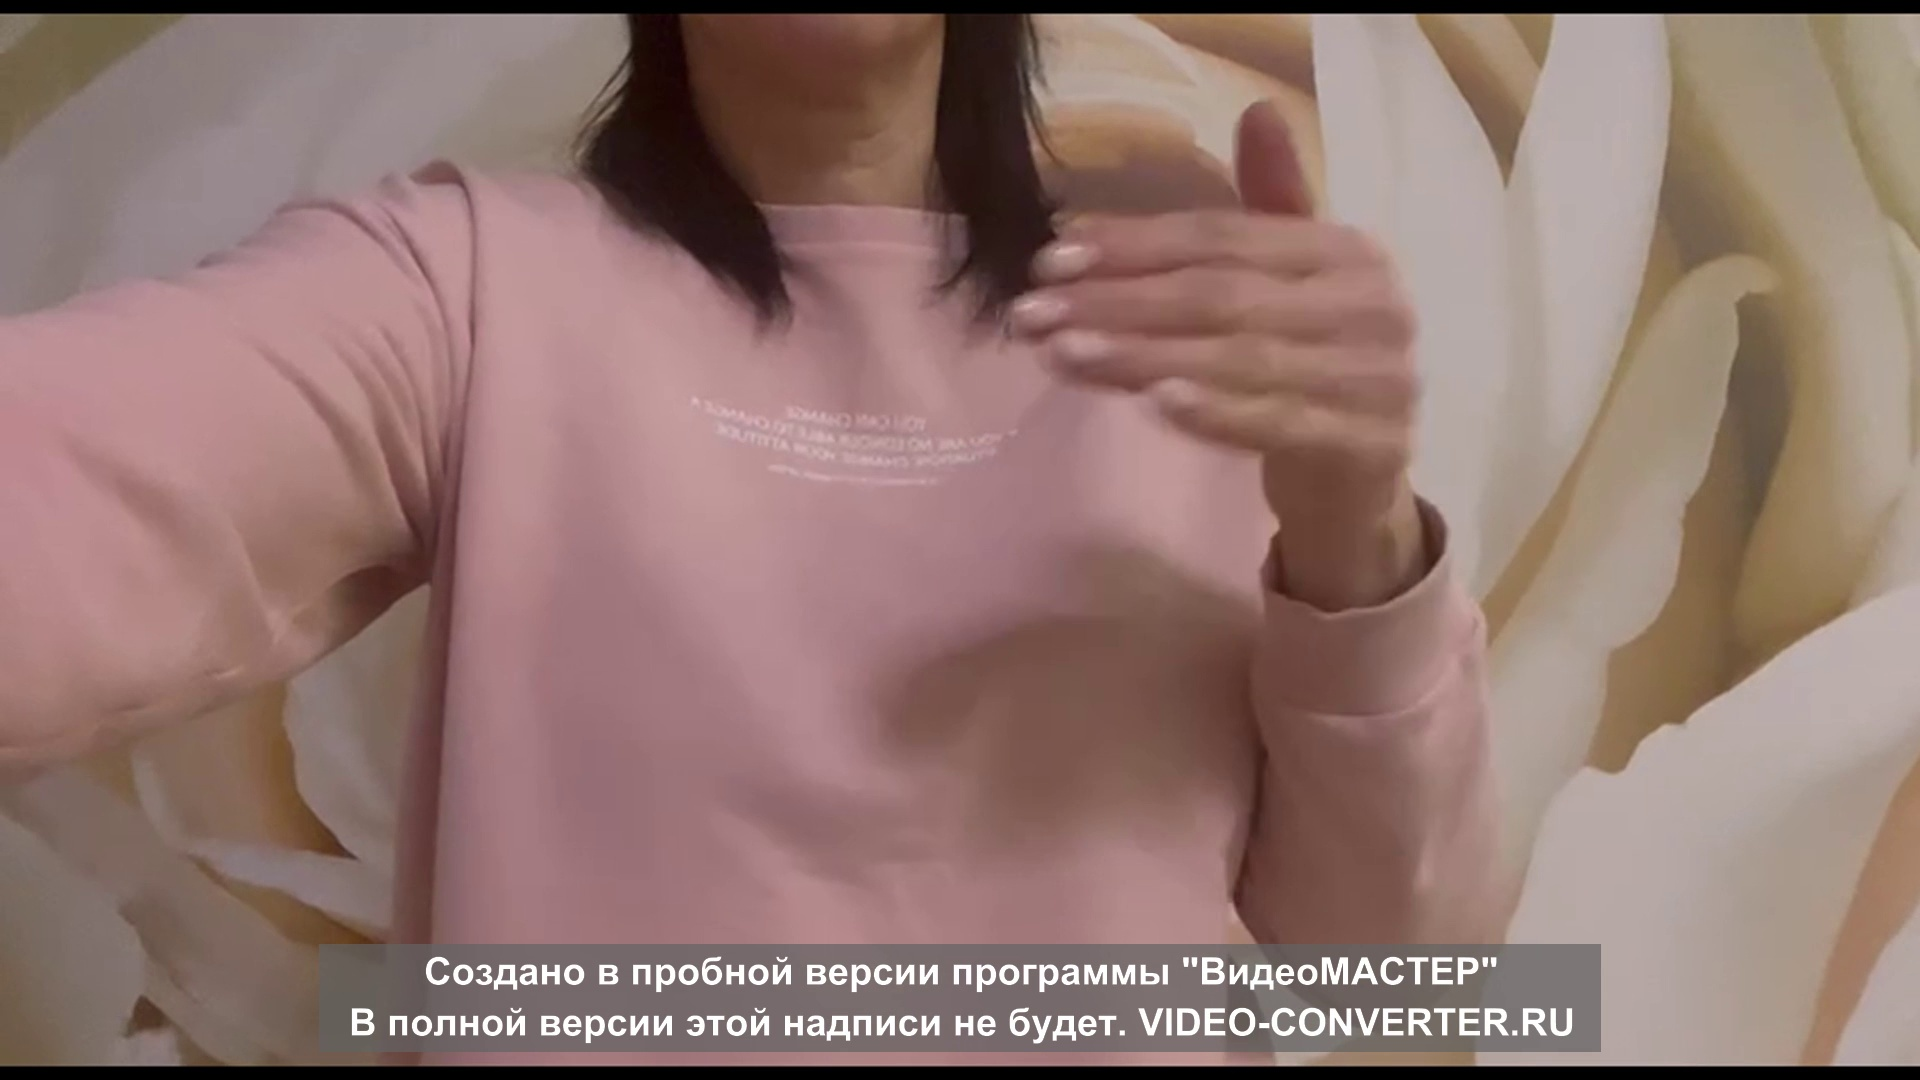Кисть: (1017, 102, 1422, 509)
